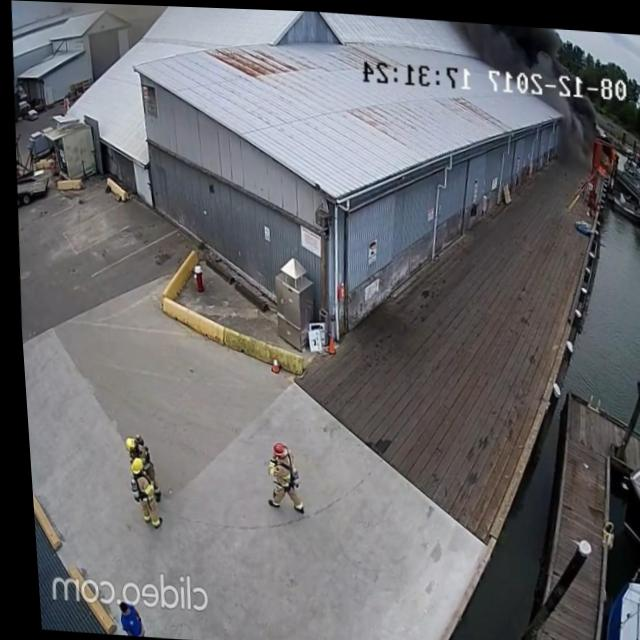fire: (595, 143, 616, 171)
